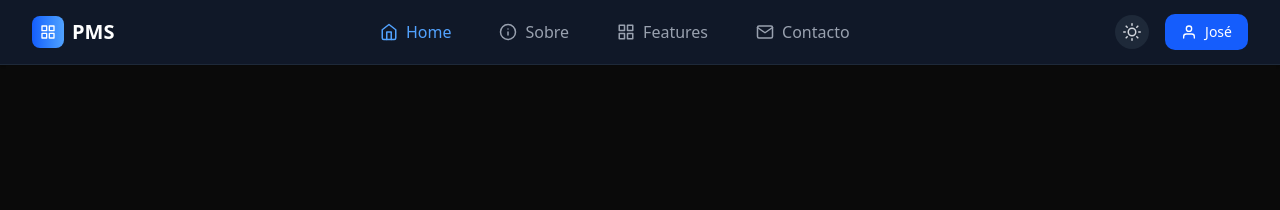
Navbar › exibe menu de perfil quando logado
This screenshot has width=1280, height=210.
Expected: the text "José" is shown, [1205,22,1232,42]
Click the button "José" at (1207, 32), box [1165,14,1248,50]
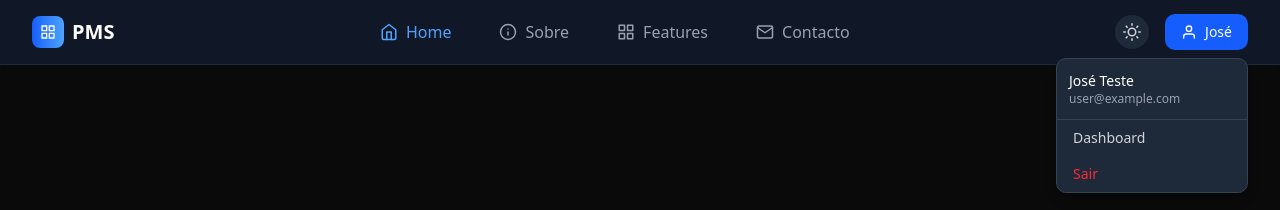
Result: the button "Dashboard" is shown at [1057,120,1247,156]
Result: the button "Sair" is shown at [1057,156,1247,192]
